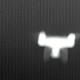plane: (33, 29, 80, 65)
